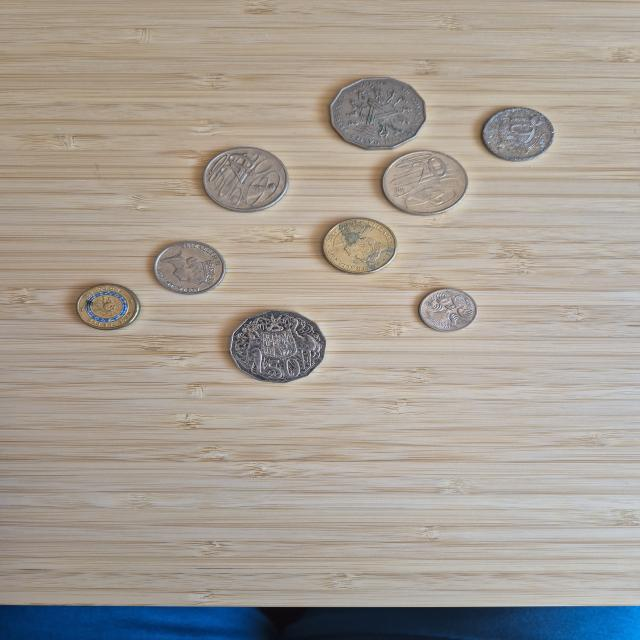1-dollar: (309, 218, 397, 278)
10-cents: (148, 240, 231, 297), (478, 106, 558, 165)
2-dollar: (63, 282, 144, 336)
20-cents: (193, 146, 292, 215), (384, 150, 470, 217)
5-cents: (409, 283, 481, 337)
50-cents: (322, 75, 429, 152), (222, 311, 329, 387)
